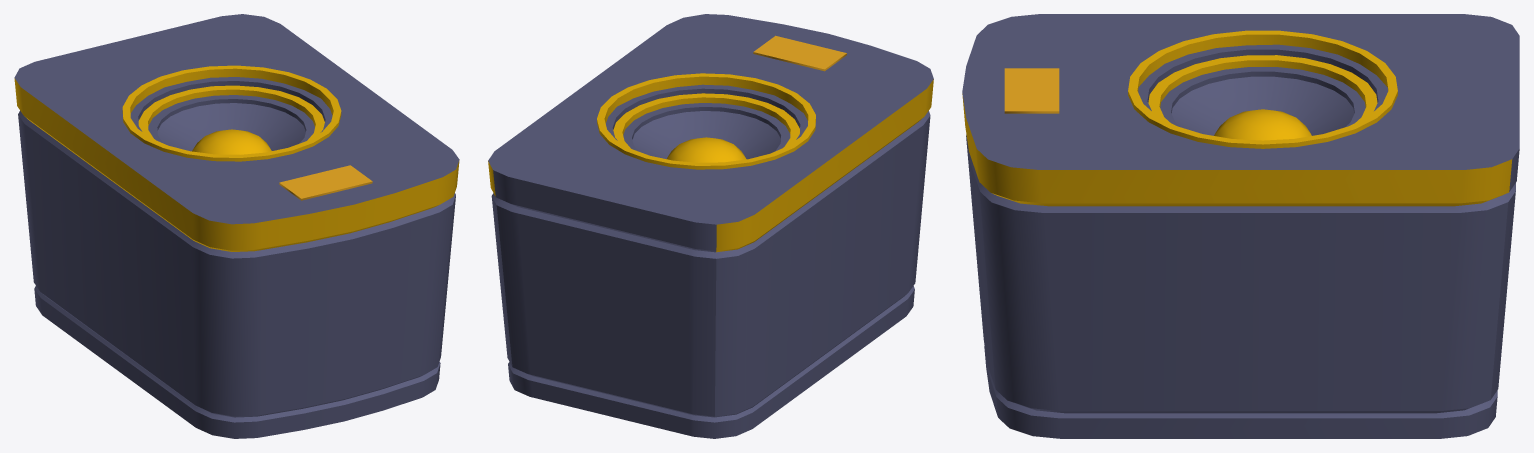
The model's file is Speaker.fbx.
3 renders of one model, left to right at view 1: azimuth 30°, elevation 25°; view 2: azimuth 150°, elevation 25°; view 3: azimuth 270°, elevation 25°, orthographic. The views are drawn at different scales.
Parts seen in each view (by area): view 1: Cube.334.frozen.001; view 2: Cube.334.frozen.001; view 3: Cube.334.frozen.001.
Part boxes in pixels (left/top/right/bottom): Cube.334.frozen.001: left=14, top=14, right=459, bottom=438; Cube.334.frozen.001: left=488, top=14, right=933, bottom=438; Cube.334.frozen.001: left=962, top=14, right=1519, bottom=438.
Bounding box in the file's own units: 173 × 145 × 262.
